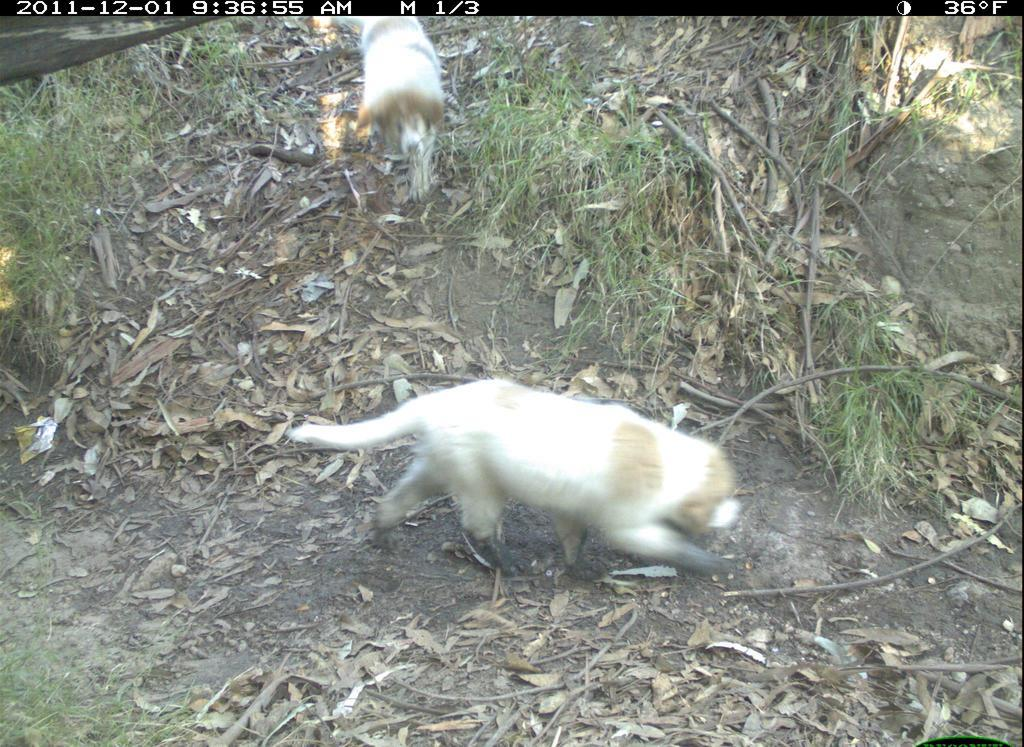dog: (282, 368, 752, 591), (313, 16, 473, 209)
